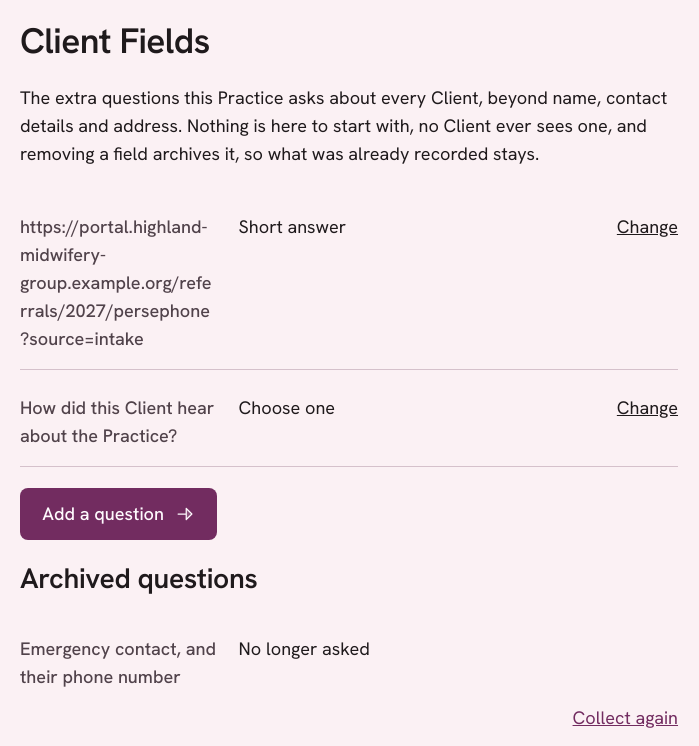
Scenario: client fields settings screen: the archived questions (#461, #2193) › collects one again from here, saving at once and saying so
Click the button "Collect again".
click(625, 718)  # box [573,696,678,740]
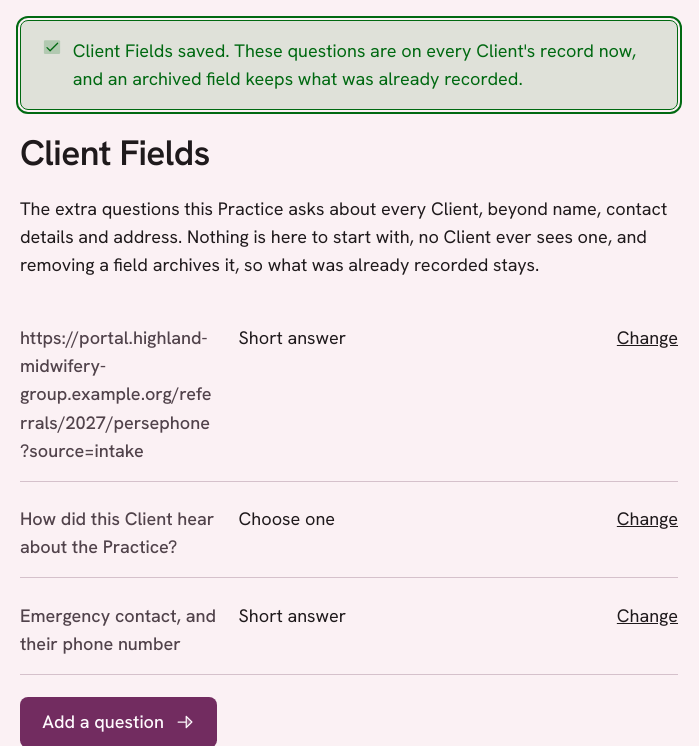
Expected: the message is shown, [20,20,678,110]
